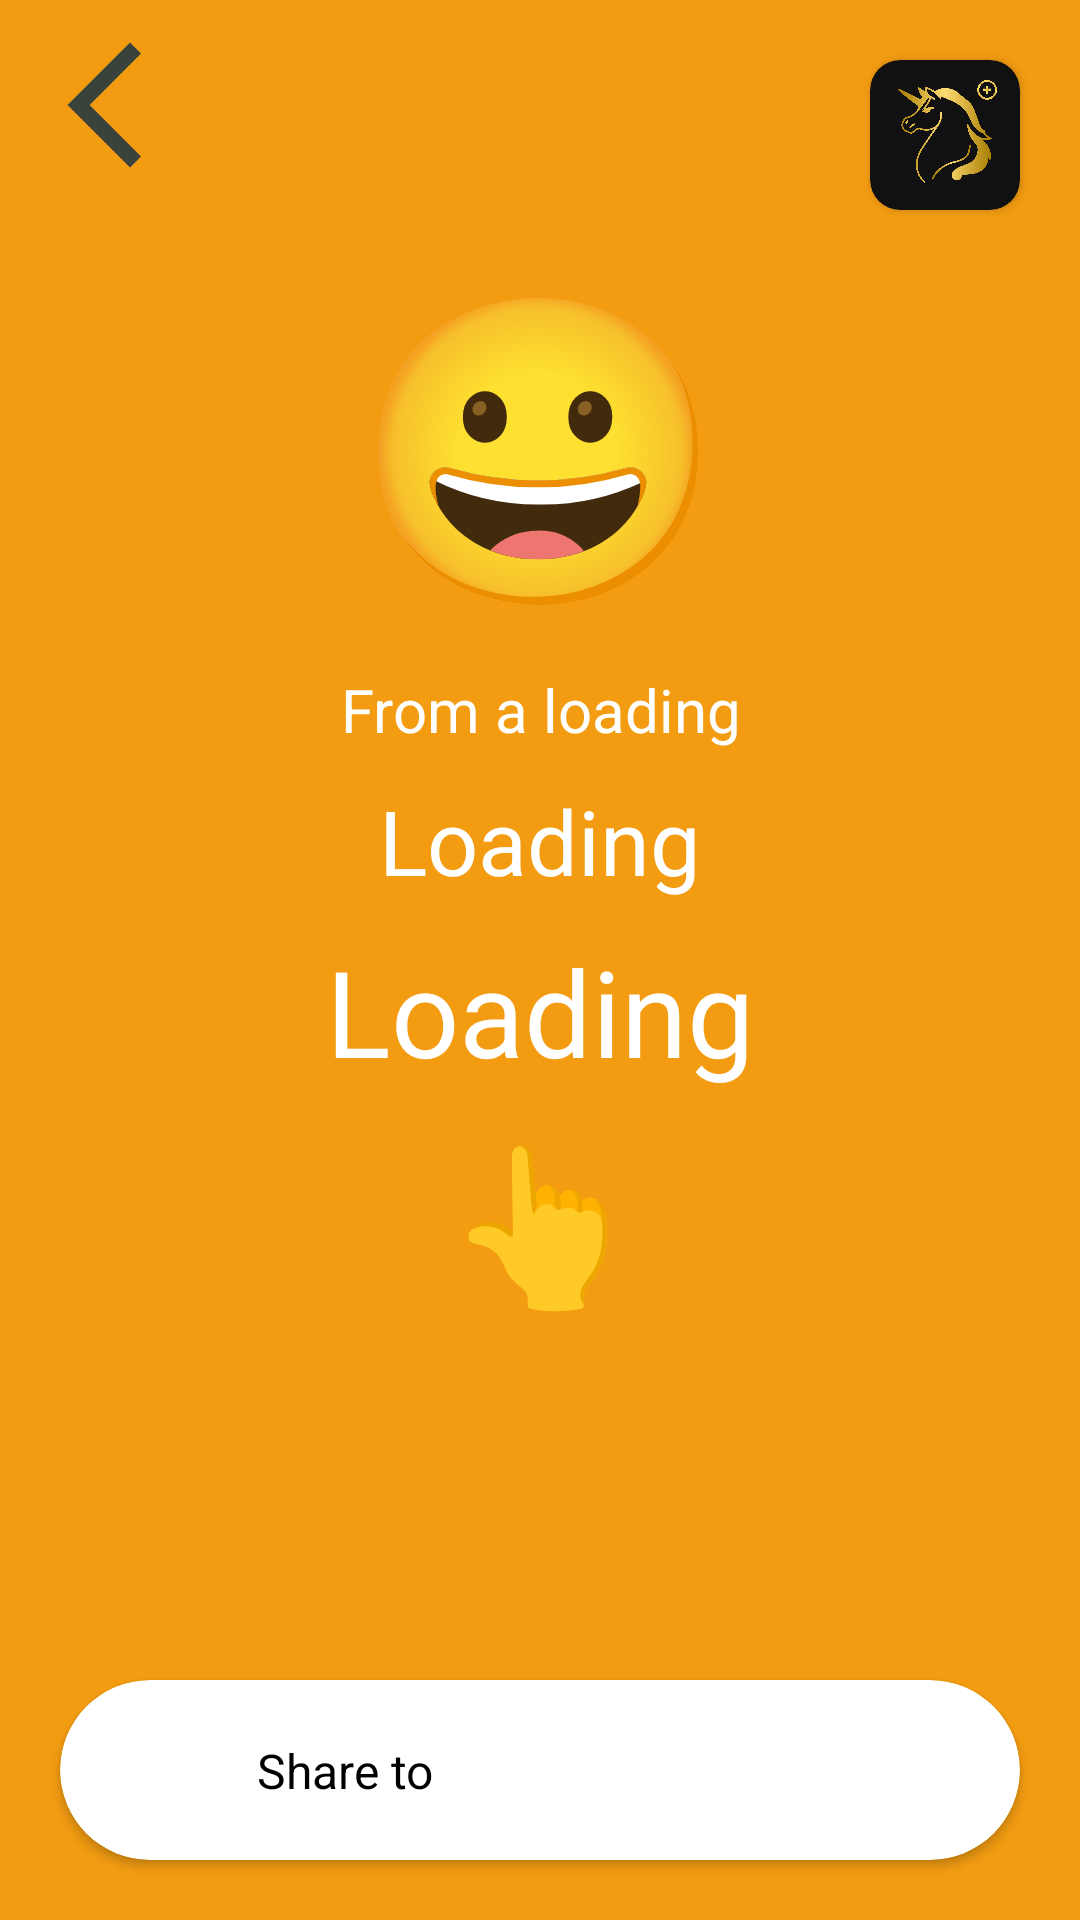

Named icons in this screenshot (1080px x 1920px) and their centers, (x,y):
back: (104,105)
